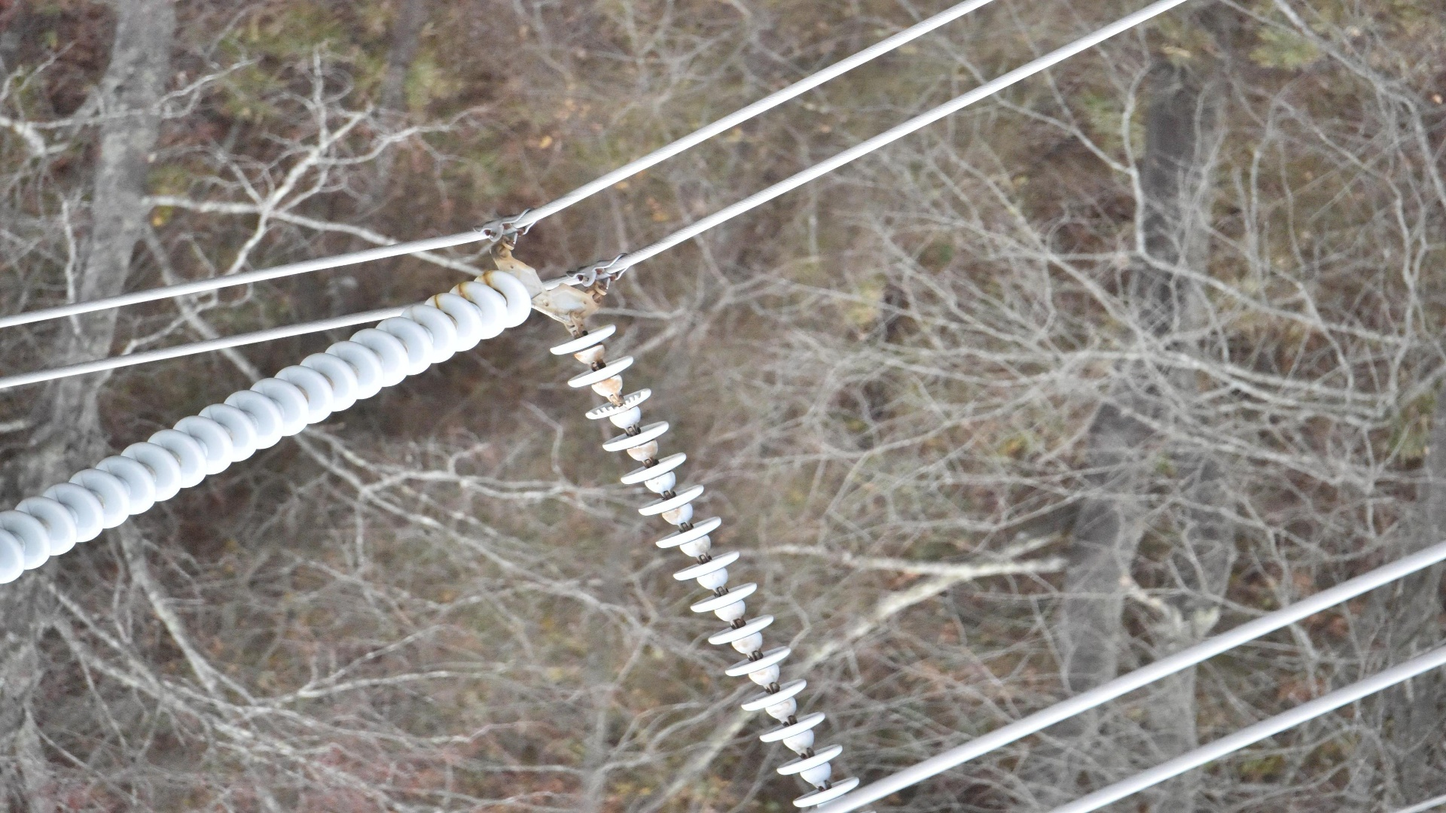insulator: (1, 266, 538, 594), (548, 317, 871, 813)
insulator_breakage: (584, 388, 650, 422)
